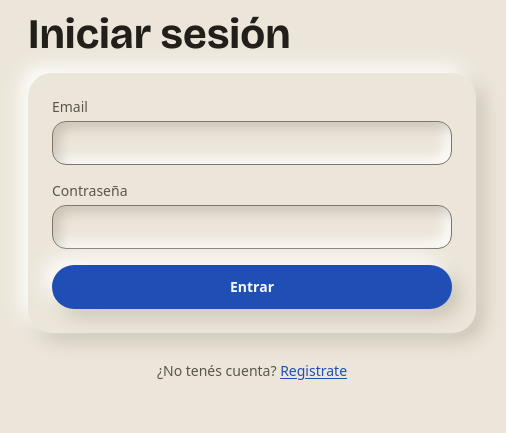
Scenario: LoginPage › muestra un error genérico cuando la petición de red falla
Type "ada@example.com" into the field labelled "Email".
click(252, 143); type("ada@example.com")  # box [52,121,452,165]
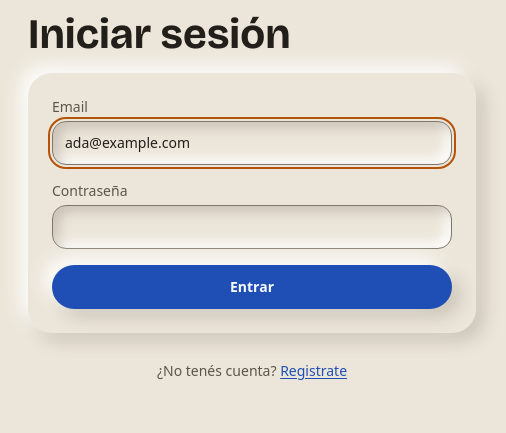
Type "s3cret" into the password field labelled "Contraseña".
click(252, 227); type("s3cret")  # box [52,205,452,249]
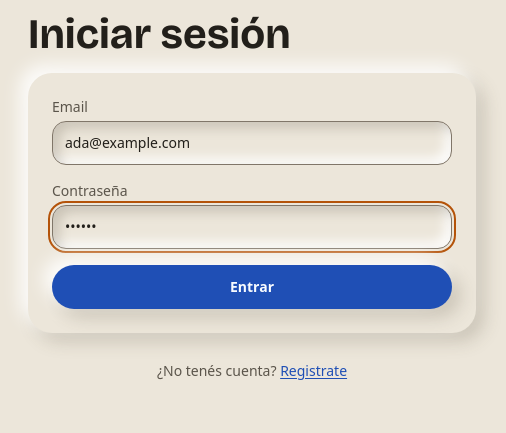
Click the button "Entrar".
click(252, 287)  # box [52,265,452,309]
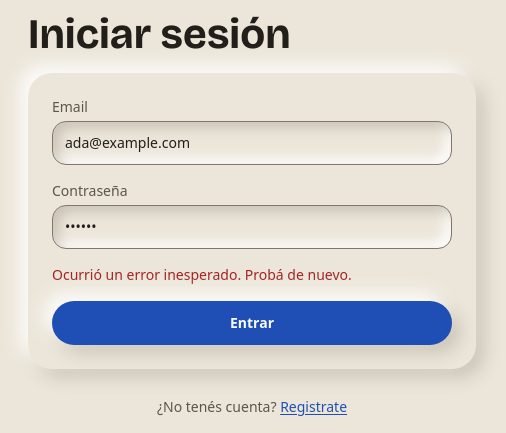
Expected: the text "Ocurrió un error inesperado. Probá de nuevo." is shown, [52,265,352,284]
